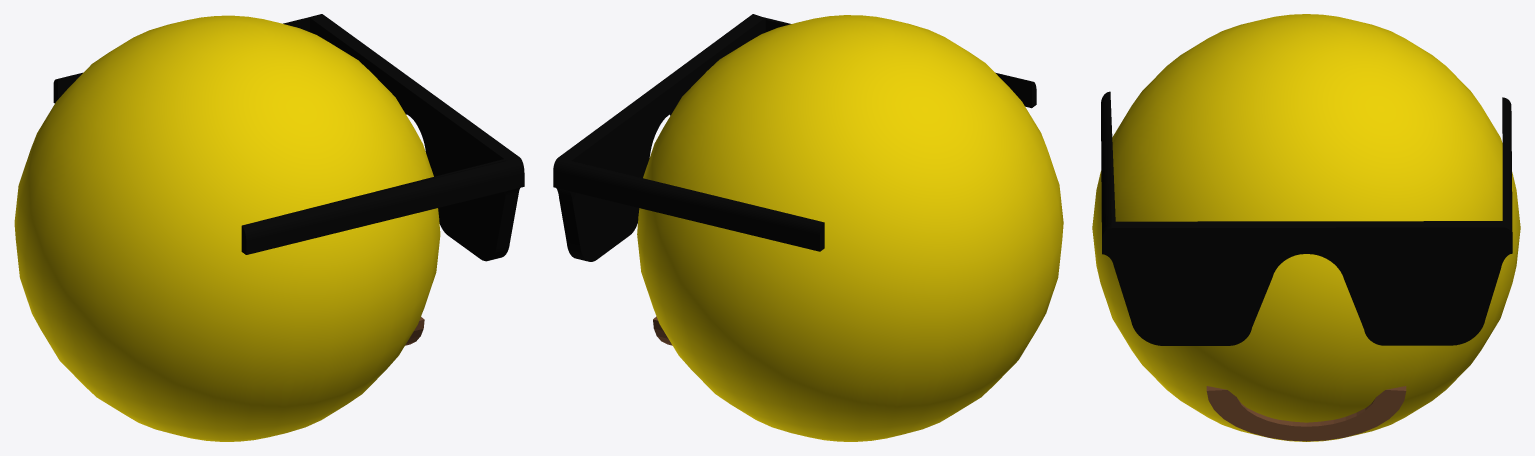
The model's file is smileface.fbx.
3 views of the same model, side by side, from view 1: azimuth 30°, elevation 25°; view 2: azimuth 150°, elevation 25°; view 3: azimuth 270°, elevation 25° (orthographic).
Visible parts, largest first — view 1: 球, 立方体; view 2: 球, 立方体; view 3: 球, 立方体, 円柱.
Part boxes in pixels (box(x1,y1,x2,y2)): 球: box(14, 15, 440, 441); 立方体: box(53, 14, 524, 261); 球: box(637, 15, 1063, 441); 立方体: box(553, 14, 1036, 261); 球: box(1092, 14, 1520, 441); 立方体: box(1101, 91, 1512, 345); 円柱: box(1206, 386, 1406, 441).
Size of the model in its own units: 789 by 768 by 768.
